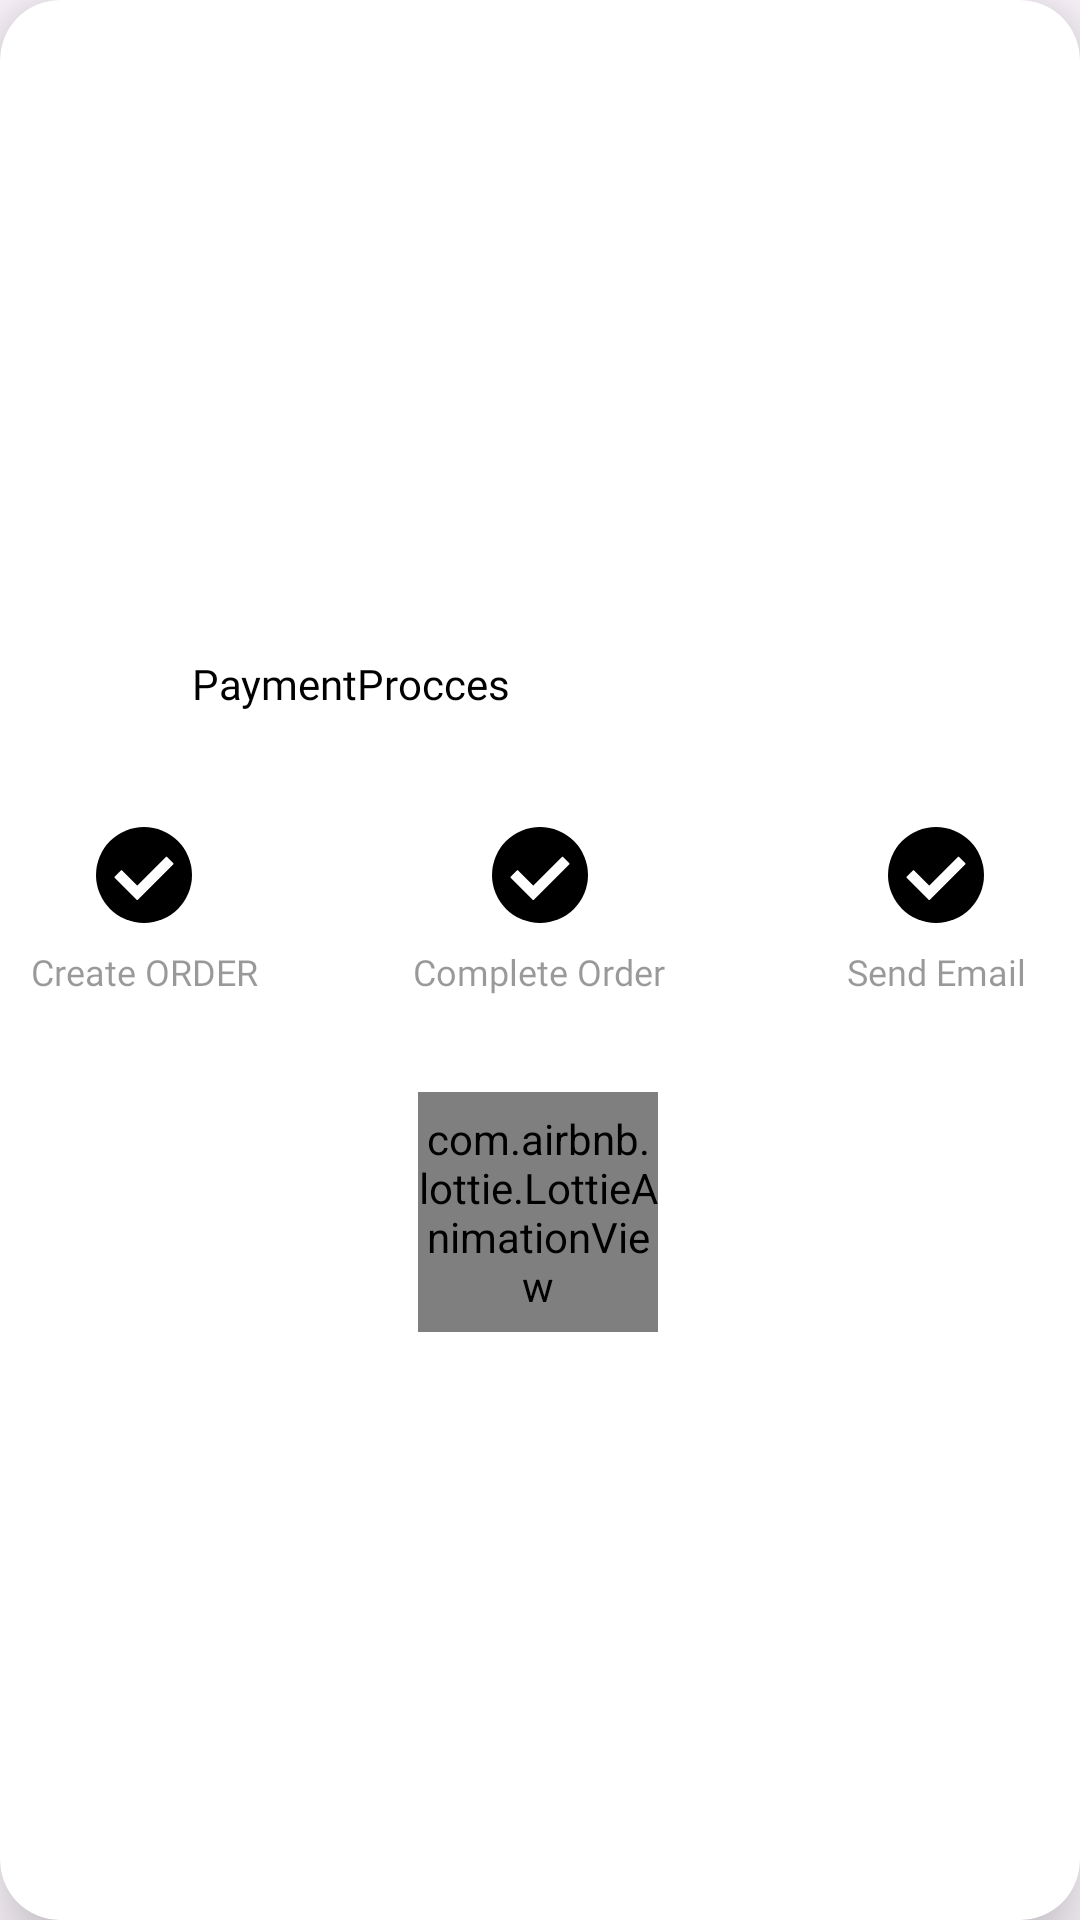

Where icons sit on this 1080 × 1920 app screen, as detection(x1, y1, x2, y2):
check: detection(96, 827, 192, 923), detection(492, 827, 588, 923), detection(888, 827, 984, 923)
